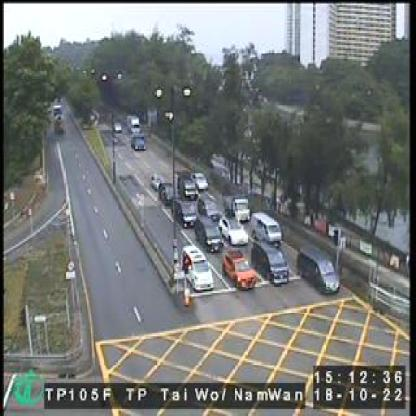Car: (296, 244, 342, 295), (250, 241, 290, 285), (180, 244, 215, 291), (222, 249, 258, 291), (193, 218, 224, 254), (251, 212, 283, 245), (218, 217, 248, 248), (171, 196, 197, 228), (225, 194, 252, 220), (197, 194, 221, 221), (158, 181, 177, 204), (179, 177, 198, 199), (190, 170, 209, 190), (149, 172, 163, 192), (130, 135, 147, 151), (114, 121, 124, 133)
Truck: (223, 193, 252, 223), (127, 114, 144, 136)
